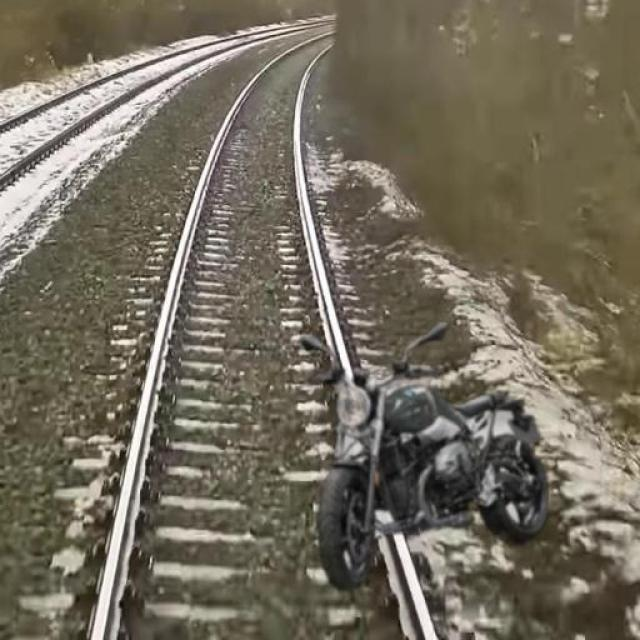vehicle: (294, 325, 577, 586)
